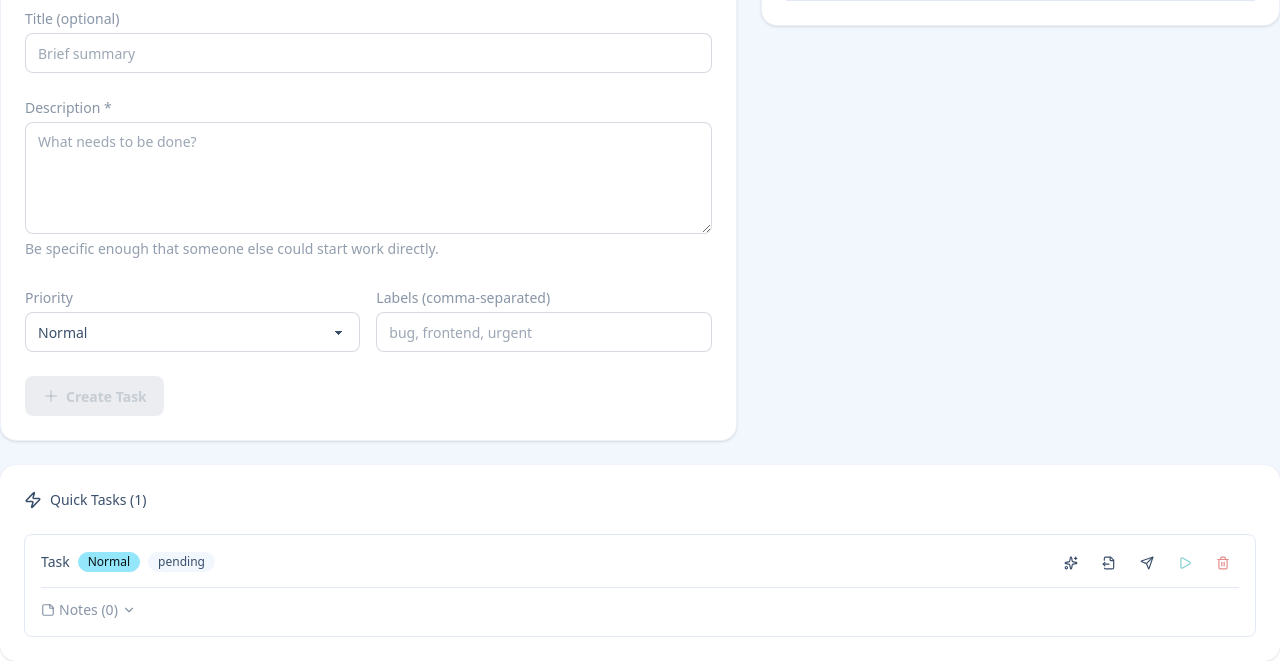
it: Quick page › opens submit modal when submit button clicked
(page scrolled)
Note: Find submit button by its title
Step 1. Click the button titled "Submit to provider" → (1147, 563), box [1131, 551, 1163, 575]
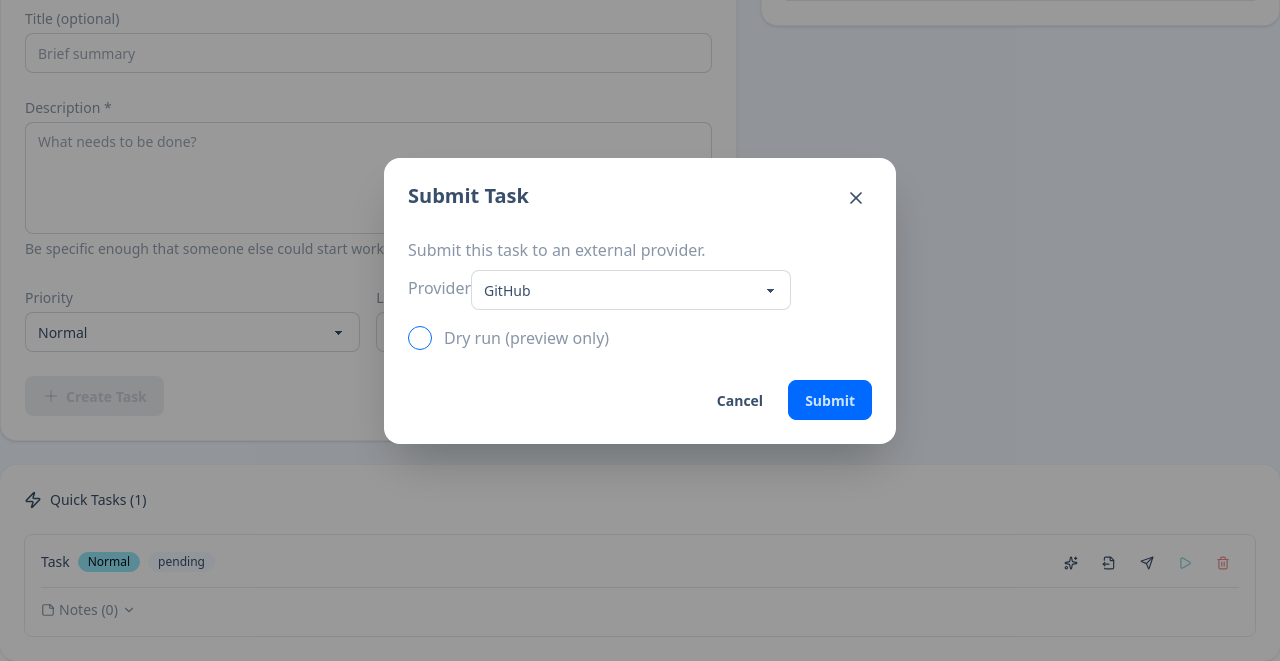
Expected: the text "Submit this task to an external provider." is shown, [408, 239, 706, 261]
